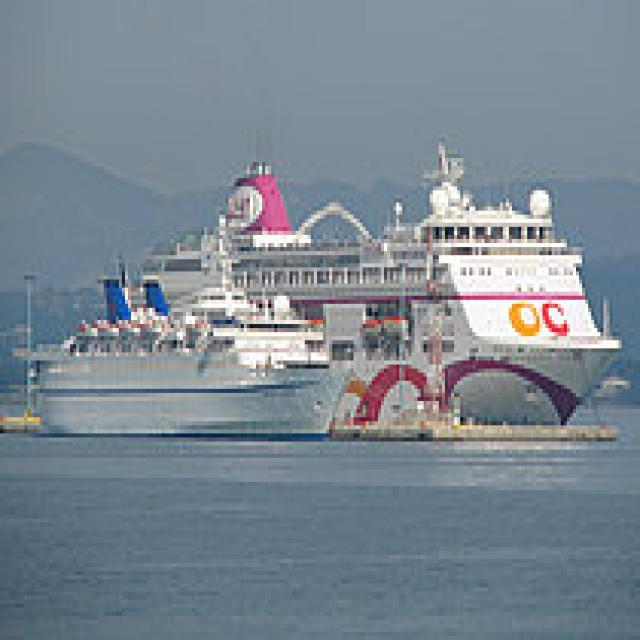Ship: (141, 171, 608, 451), (38, 281, 349, 447)
